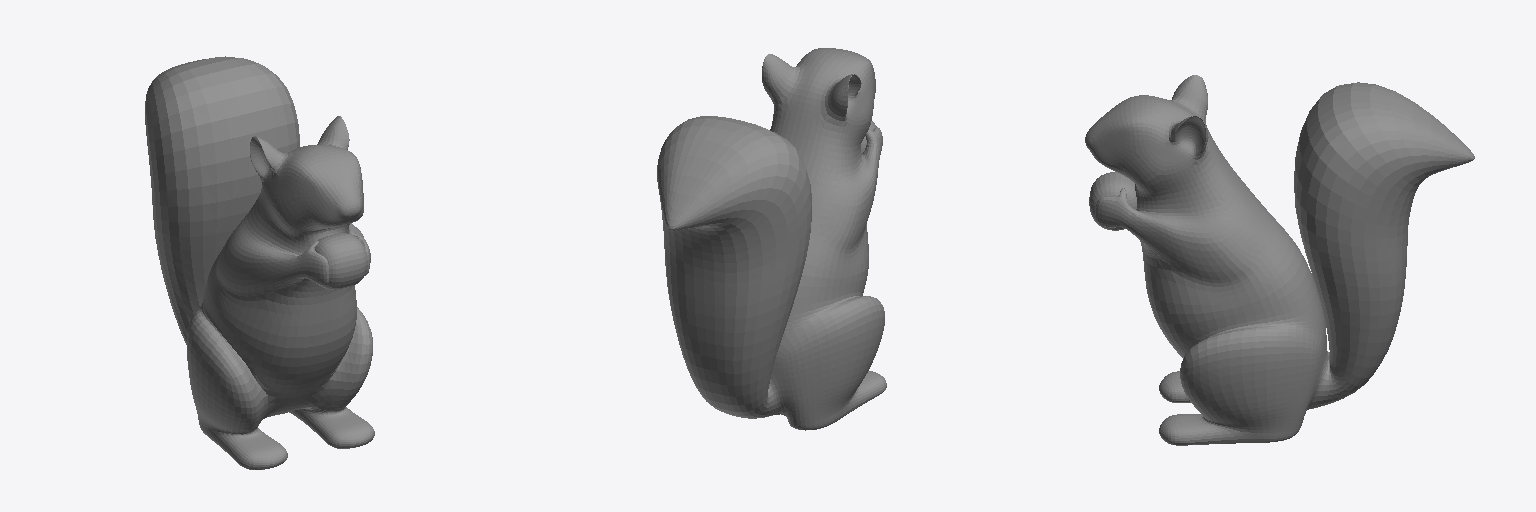
File: bosque_ardilla.obj
3 views of the same model, side by side, from view 1: azimuth 30°, elevation 25°; view 2: azimuth 150°, elevation 25°; view 3: azimuth 270°, elevation 25° (orthographic).
Parts seen in each view (by area): view 1: __1:_Squirrel_v2; view 2: __1:_Squirrel_v2; view 3: __1:_Squirrel_v2.
Boxes of the visible parts, box(x1,y1,x2,y2) form: __1:_Squirrel_v2: box(145, 56, 374, 469); __1:_Squirrel_v2: box(657, 48, 886, 430); __1:_Squirrel_v2: box(1085, 75, 1474, 445).
Bounding box in the file's own units: 20.41 × 39.34 × 43.3.